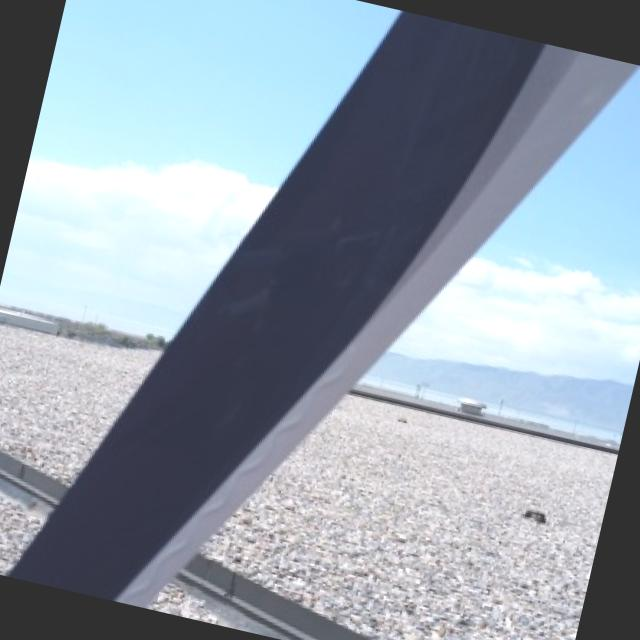healthy: (9, 10, 633, 605)
